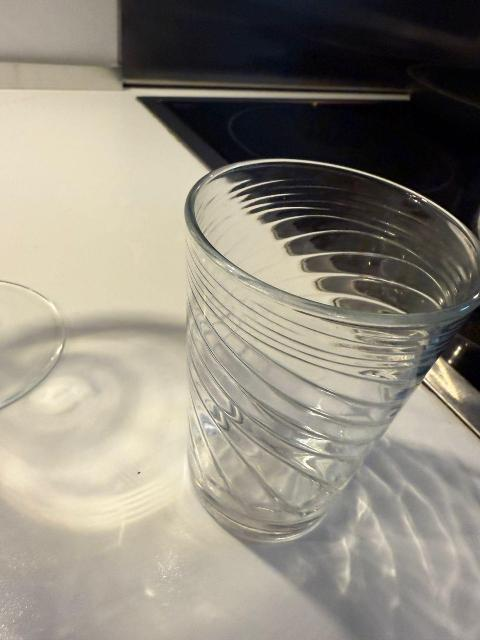Cam: (180, 157, 480, 544), (0, 276, 65, 417)
